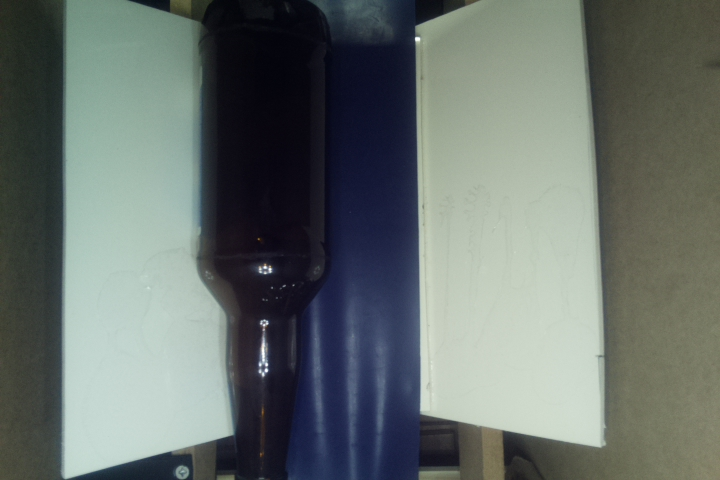makju: (195, 2, 327, 480)
